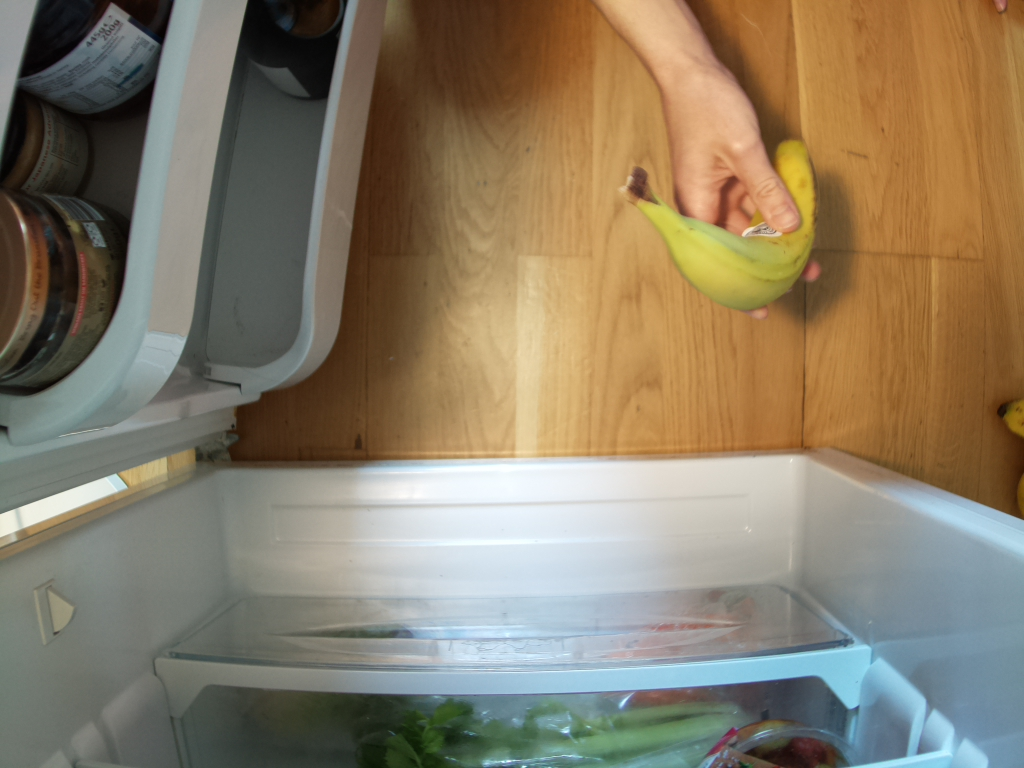banana-unripe: (619, 128, 822, 314)
